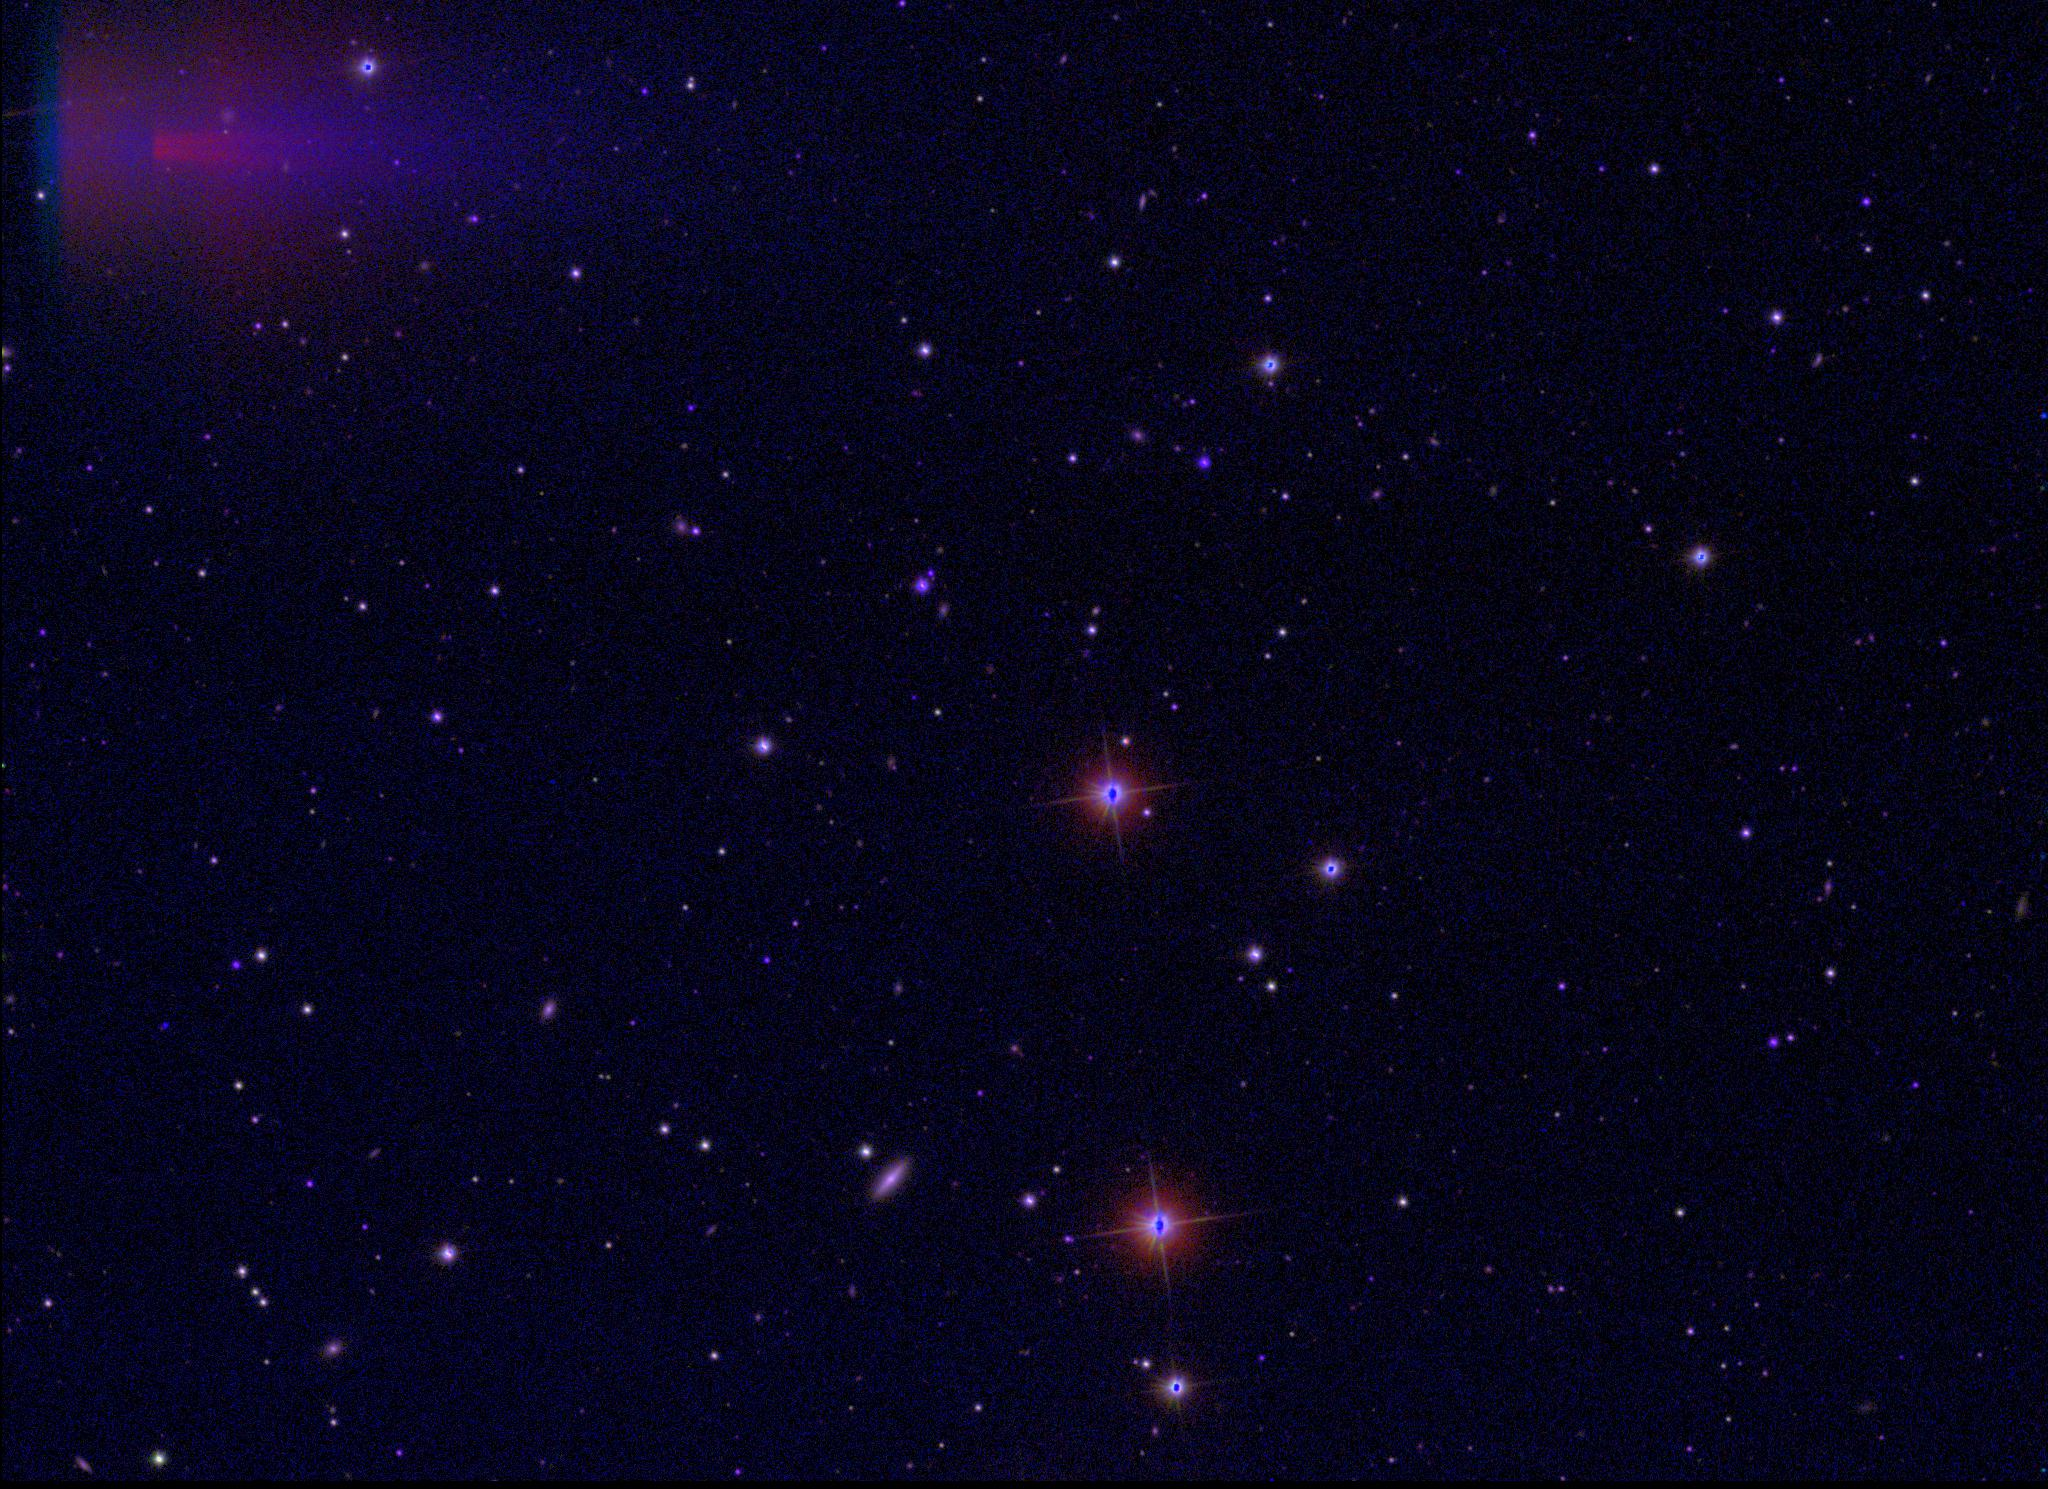L: (157, 1020, 172, 1032)
